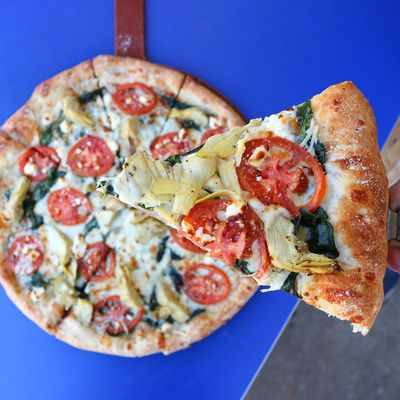sandwich: (1, 55, 397, 357)
